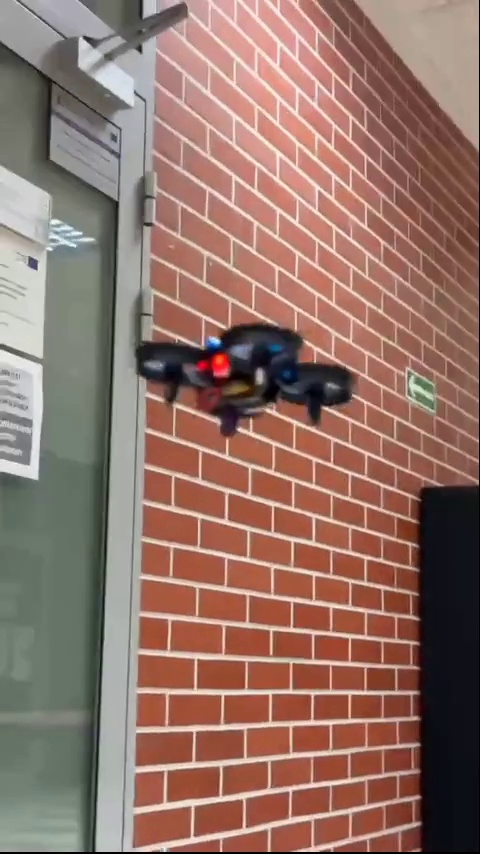drone: (138, 322, 354, 431)
